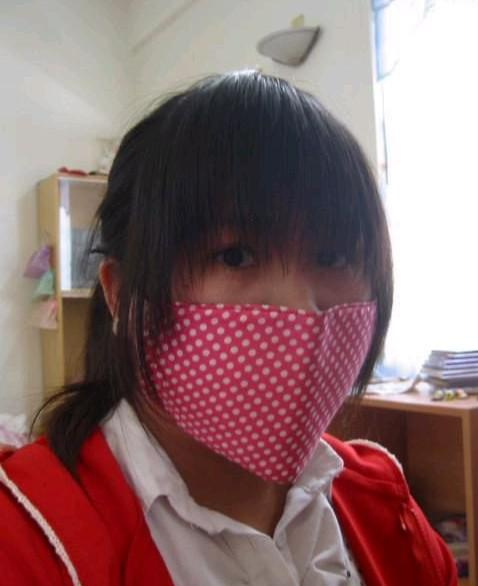WRONG: (151, 214, 392, 455)
